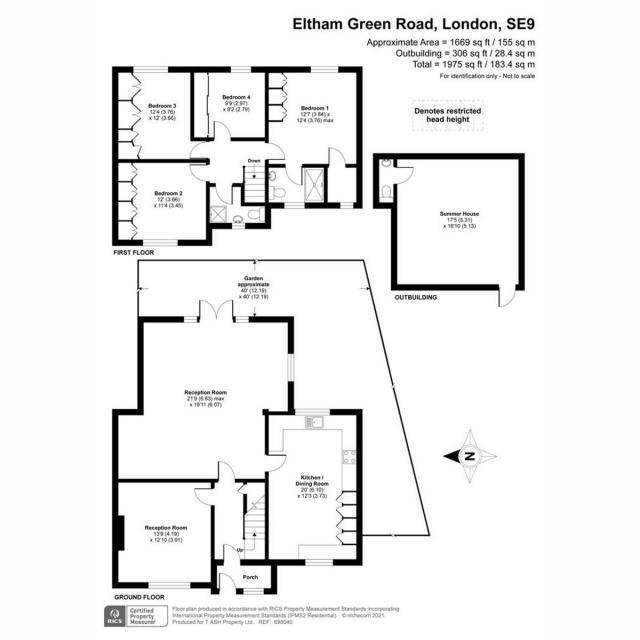DOOR: (497, 284, 516, 308), (214, 183, 234, 205), (218, 572, 237, 595), (222, 543, 241, 566), (217, 460, 236, 483), (264, 454, 287, 473), (189, 163, 210, 183), (393, 166, 415, 185), (284, 164, 303, 186), (264, 142, 286, 161), (194, 487, 215, 506), (327, 147, 346, 168), (213, 120, 231, 141), (189, 141, 210, 159)
DOUBLE DOOR: (198, 299, 234, 323)
ROOM: (112, 299, 295, 483), (390, 152, 526, 308), (262, 408, 363, 567), (264, 66, 363, 187), (111, 478, 217, 589), (112, 66, 211, 163), (112, 159, 212, 246), (189, 66, 269, 142)
WINDOW: (148, 581, 191, 589), (294, 408, 331, 416), (142, 239, 178, 247), (304, 558, 334, 567), (310, 65, 339, 74), (132, 66, 169, 73), (287, 353, 295, 382), (242, 587, 265, 596), (230, 66, 252, 73), (284, 202, 305, 209), (231, 222, 246, 230), (183, 316, 198, 323), (339, 202, 354, 209), (235, 316, 249, 323)
